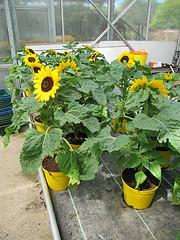sunflower: (33, 65, 60, 103), (130, 78, 169, 100), (58, 60, 78, 76), (117, 52, 134, 65), (23, 53, 41, 64)
